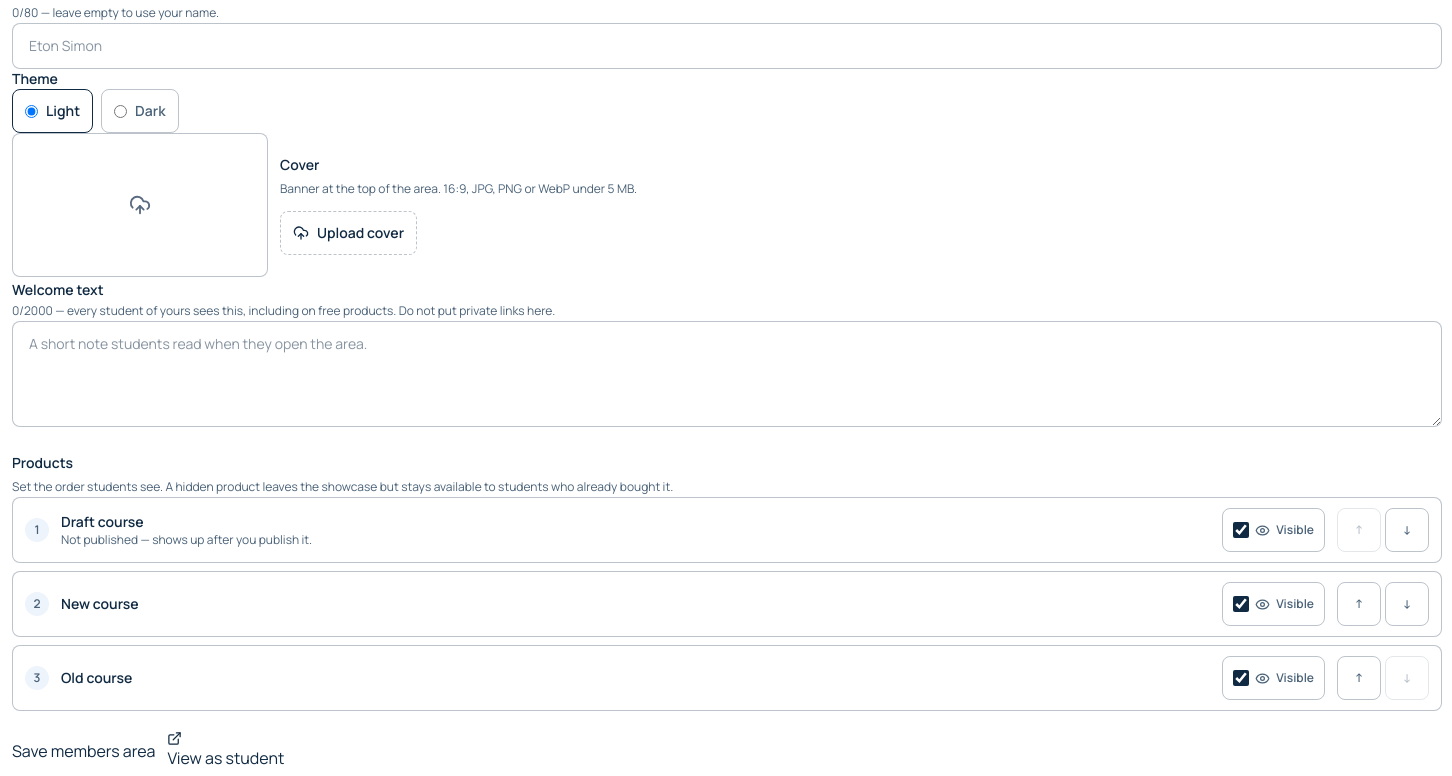
Test case: MemberAreaSettingsPanel › lista que falha depois da área salva avisa o que ficou e o que faltou
(page scrolled)
Expected: the list is shown, [12,497,1442,711]
What coordinates should you click on to do the following:
click the button "Save members area"
I would click on:
 (84, 750)
Its box is [12,738,155,762].
(page scrolled)
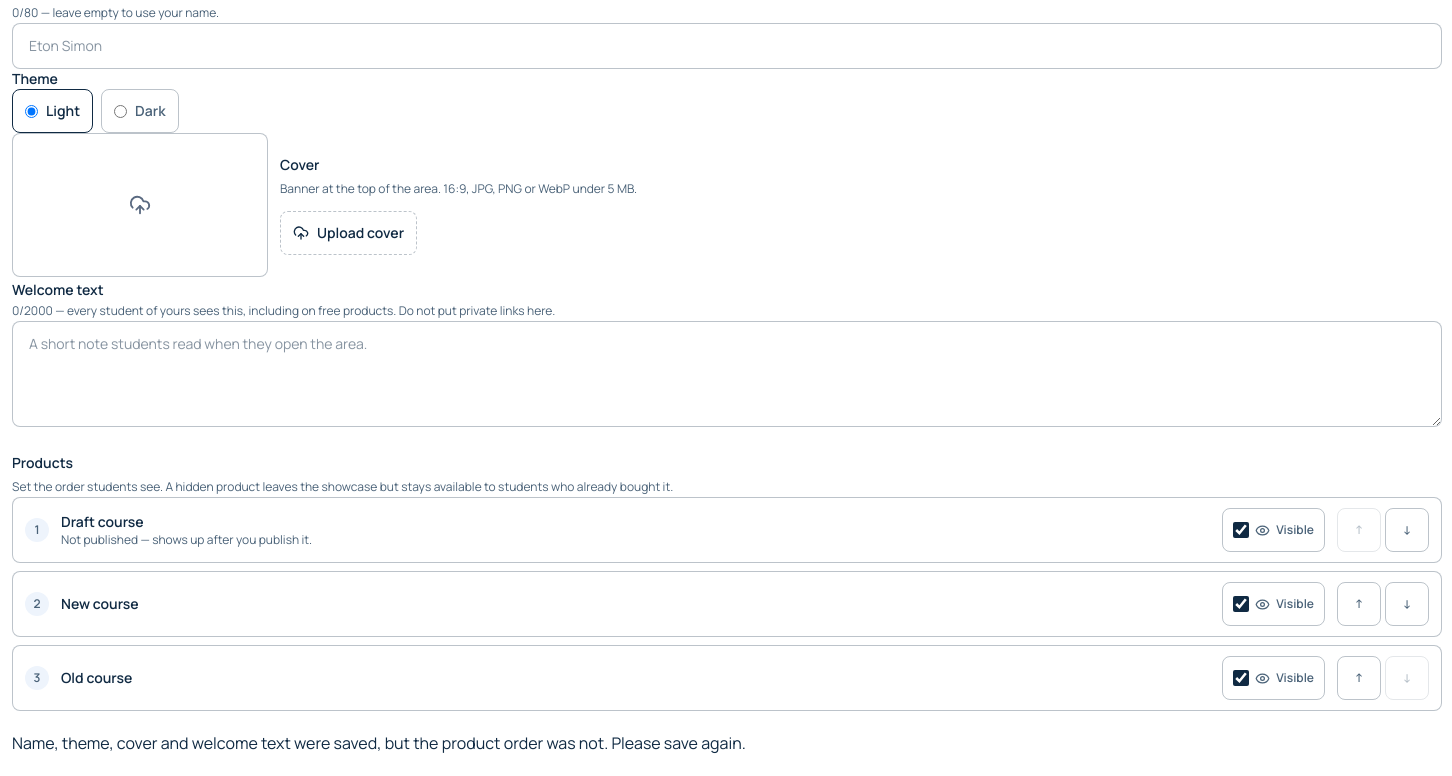
Now the text "were saved, but the product order was not" is shown, box [12,732,746,754]
